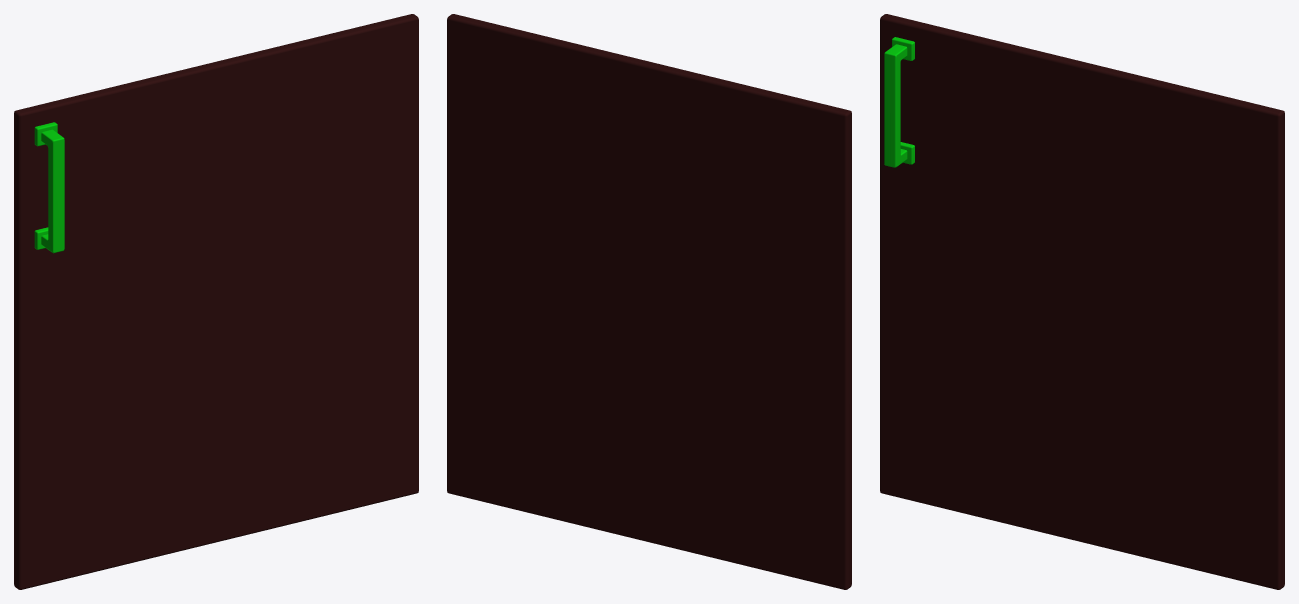
Rendered from kuchnia_05_szafka_stojaca_drzwi_mirror.fbx.
3 views of the same model, side by side, from view 1: azimuth 30°, elevation 25°; view 2: azimuth 150°, elevation 25°; view 3: azimuth 330°, elevation 25° (orthographic).
Visible parts, largest first — view 1: Mesh; view 2: Mesh; view 3: Mesh.
Part boxes in pixels (bbox=[...]): Mesh: bbox=[14, 14, 418, 589]; Mesh: bbox=[447, 14, 851, 589]; Mesh: bbox=[880, 14, 1284, 589].
Bounding box in the file's own units: 80 × 90.98 × 7.21.
